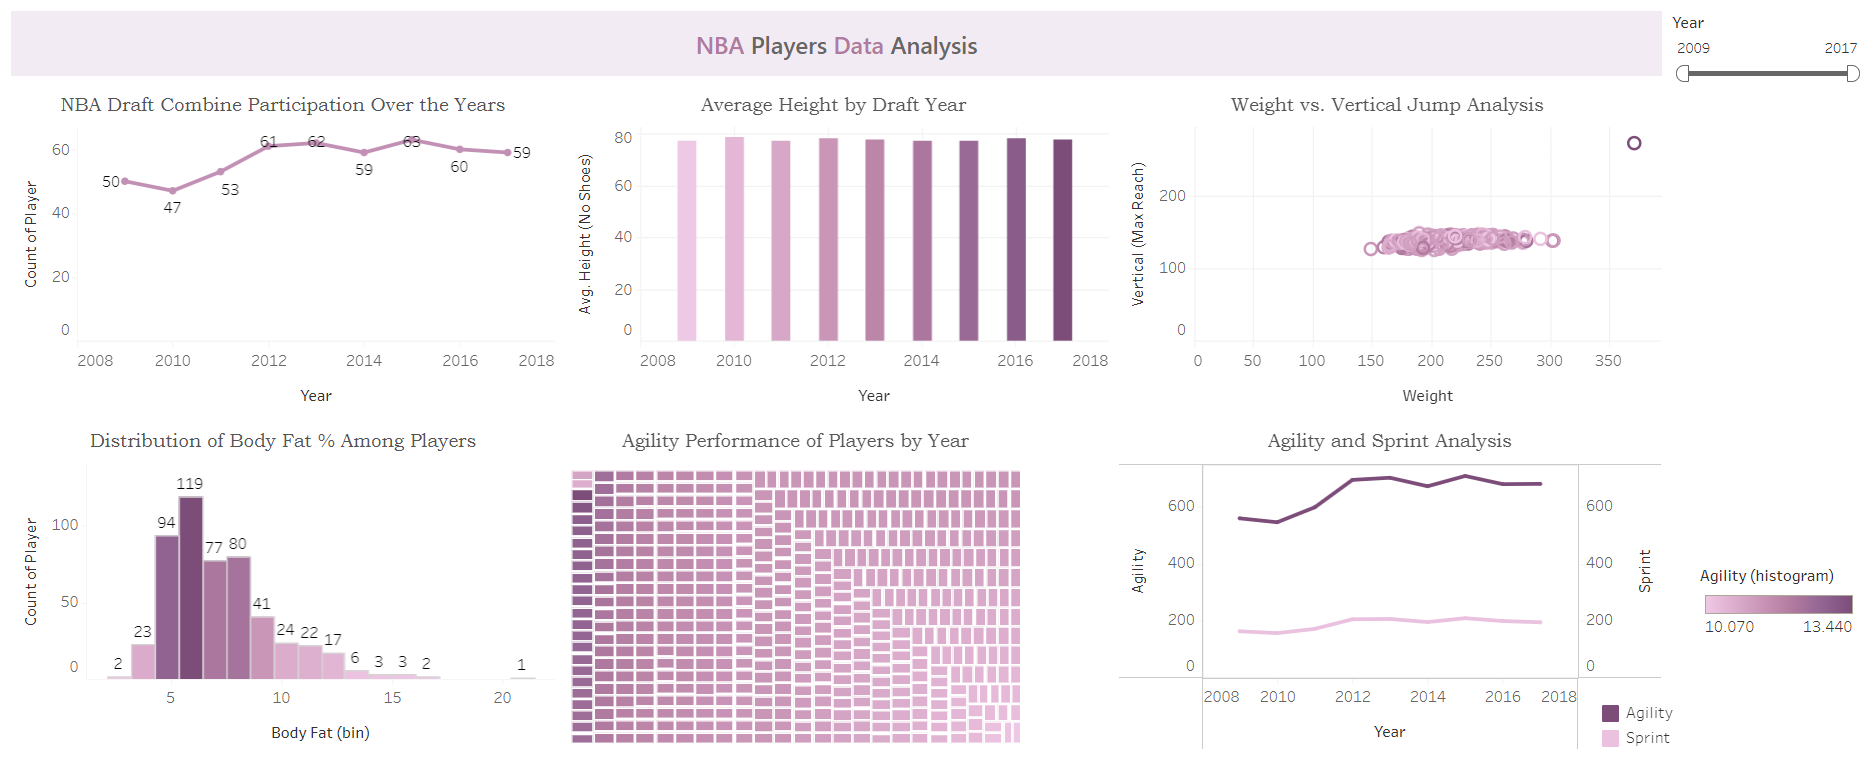

The page's visual inventory and layout, read from the dashboard file:
{"tool":"tableau","page":{"name":"Dashboard 1","canvas":[1000,1000],"units":"permille","ordinal":0},"visuals":[{"type":"text","box":[4.8,10,893.8,98.6]},{"type":"filter","title":"Draft year line chart","param":"[federated.0evoxkx033g3lm1c3idnw0e92sil].[none:Year:qk]","box":[898.6,10,96.6,91.1]},{"type":"worksheet","title":"Draft year line chart","mark":"Line","rows":["Player"],"cols":["Year"],"box":[4.8,108.6,298.1,439.4]},{"type":"worksheet","title":"Avg height","mark":"Bar","rows":["Height (No Shoes)"],"cols":["Year"],"box":[303,108.6,298.1,439.4]},{"type":"worksheet","title":"Weight vs Vertical Jump","mark":"Automatic","rows":["Vertical (Max Reach)"],"cols":["Weight"],"box":[601.1,108.6,297.5,439.4]},{"type":"worksheet","title":"body fat distribution","mark":"Bar","rows":["Player"],"cols":["Body Fat (bin)"],"box":[4.8,548.1,298.1,441.9]},{"type":"worksheet","title":"Agility performance","mark":"Automatic","box":[303,548.1,298.1,441.9]},{"type":"worksheet","title":"Agility and sprint","mark":"Line","rows":["Agility","Sprint"],"cols":["Year"],"box":[601.1,548.1,297.5,441.9]},{"type":"legend","title":"Agility performance","param":"[federated.0evoxkx033g3lm1c3idnw0e92sil].[sum:Agility:qk]","box":[905.9,739.1,84.5,109.9]},{"type":"legend","title":"Agility and sprint","param":"[federated.0evoxkx033g3lm1c3idnw0e92sil].[:Measure Names]","box":[852.1,917.6,51.3,63.7]}]}

Visuals, with their boxes on the dashboard's canvas, which has no fixed pixel size, in thousandths of its width and height (x1, y1, x2, y2). These are canvas units, not pixel positions in the 1876x760 screenshot, which may show the page scaled, cropped or inside an application window:
text: 5, 10, 899, 109
"Draft year line chart" filter: 899, 10, 995, 101
"Draft year line chart" worksheet (Line marks): 5, 109, 303, 548
"Avg height" worksheet (Bar marks): 303, 109, 601, 548
"Weight vs Vertical Jump" worksheet: 601, 109, 899, 548
"body fat distribution" worksheet (Bar marks): 5, 548, 303, 990
"Agility performance" worksheet: 303, 548, 601, 990
"Agility and sprint" worksheet (Line marks): 601, 548, 899, 990
"Agility performance" legend: 906, 739, 990, 849
"Agility and sprint" legend: 852, 918, 903, 981
